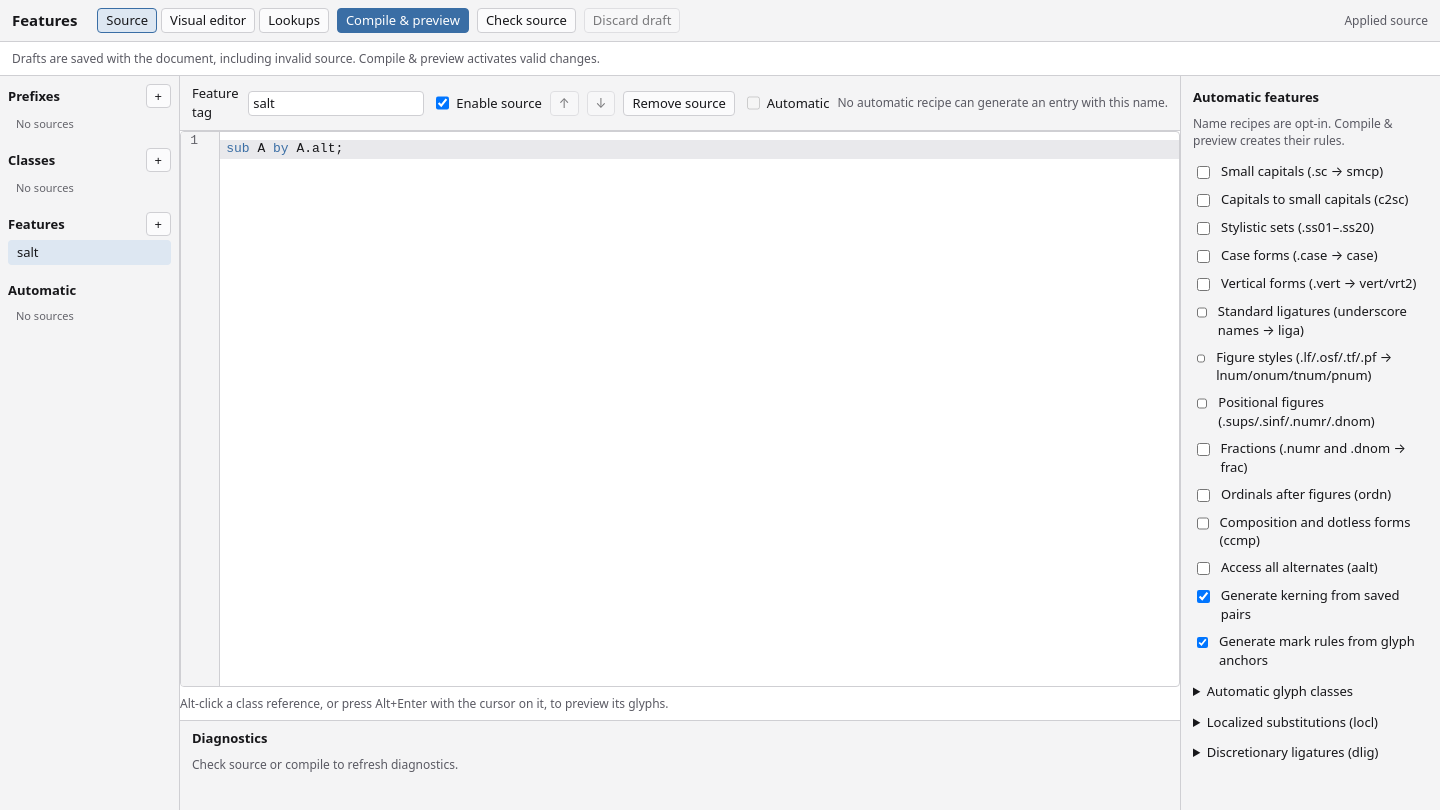
Test: Visual lookup editor › adds a manually editable lookup without changing generated blocks
The image size is (1440, 810).
Click the button "Visual editor": (208, 20) left=161, top=8, right=255, bottom=33
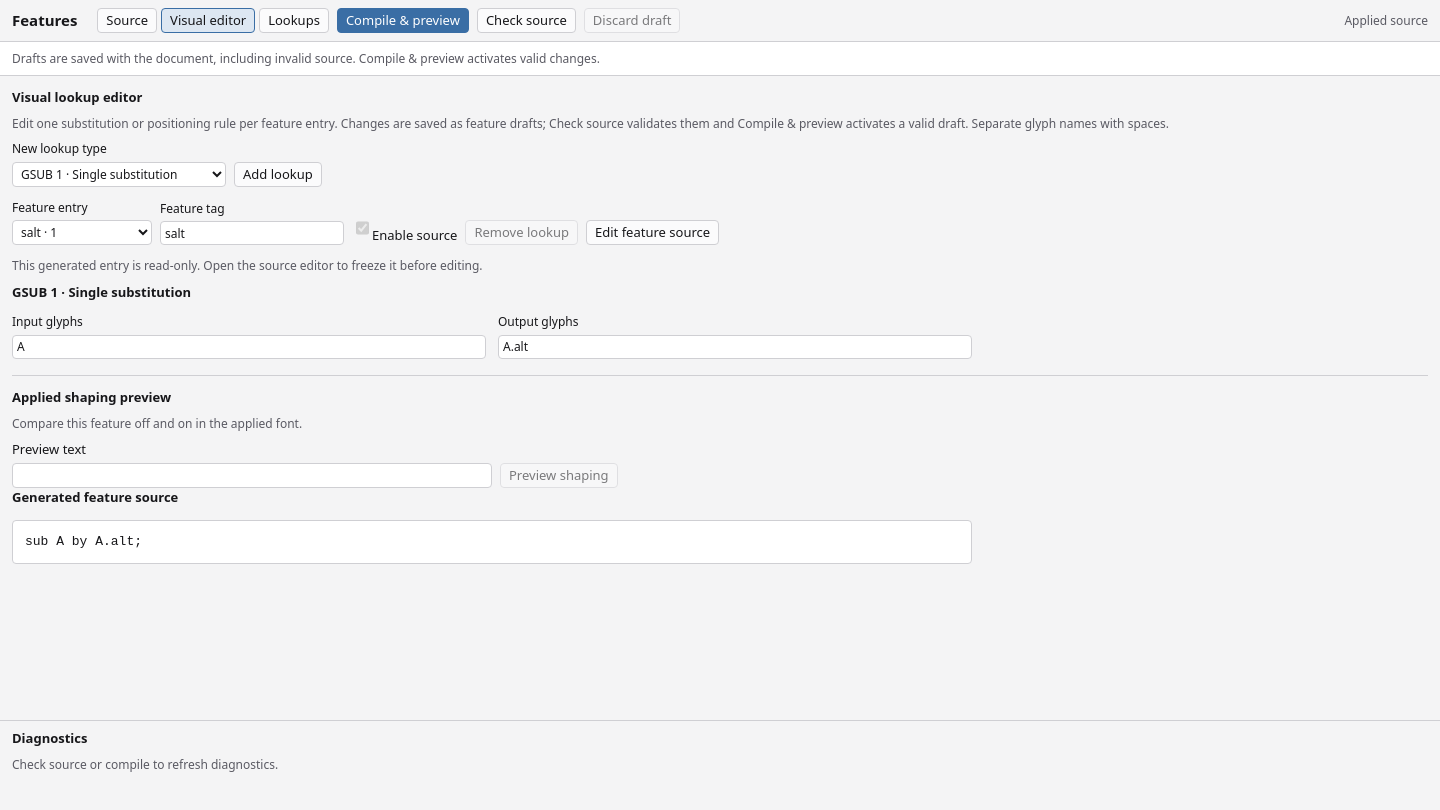
Check: the element "Visual lookup editor" is shown
Check: the field labelled "Input glyphs" is disabled, box left=12, top=335, right=486, bottom=359
Select "GSUB 4 · Ligature substitution" in the dropdown labelled "New lookup type": (119, 174) left=12, top=162, right=226, bottom=187
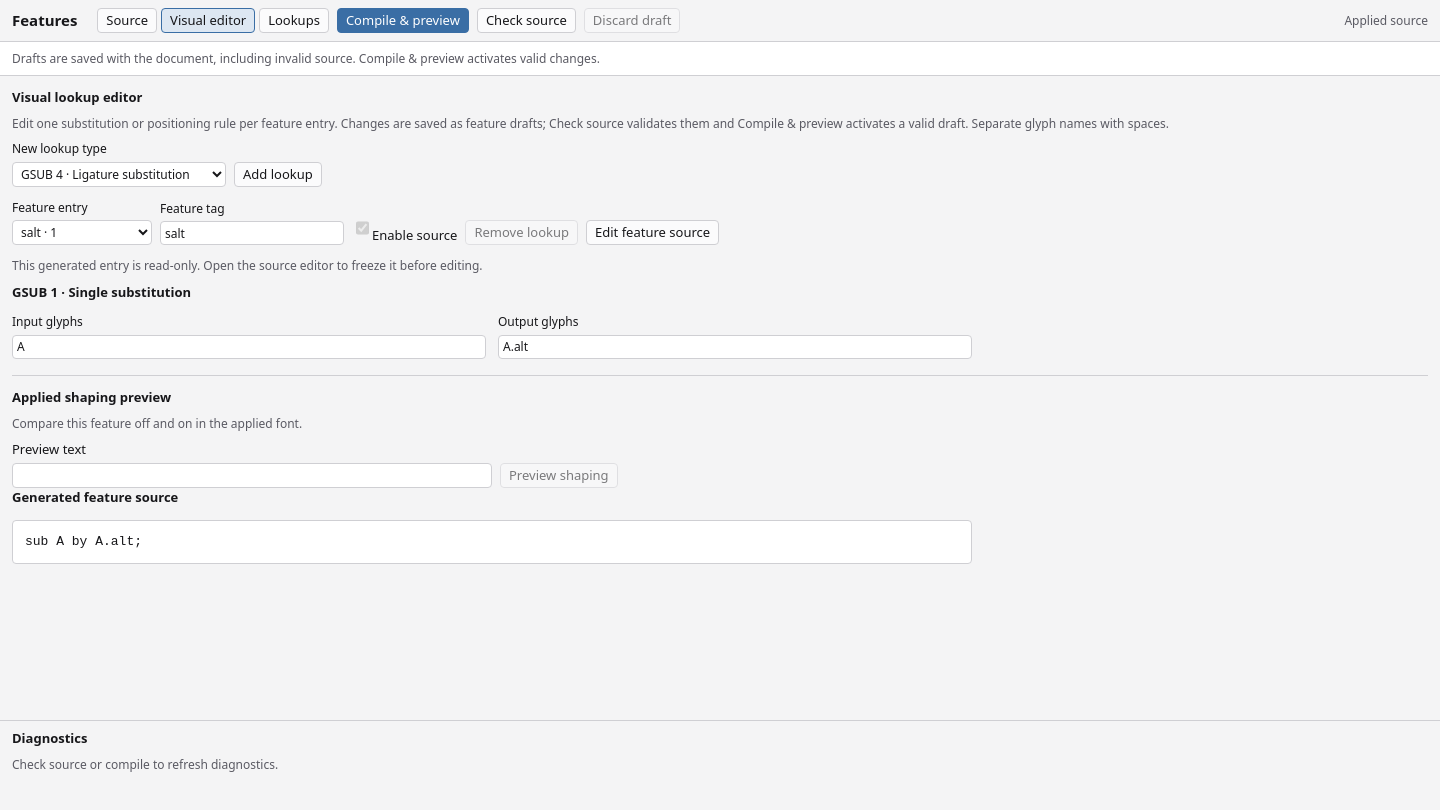
Click the button "Add lookup": (278, 174) left=234, top=162, right=322, bottom=187
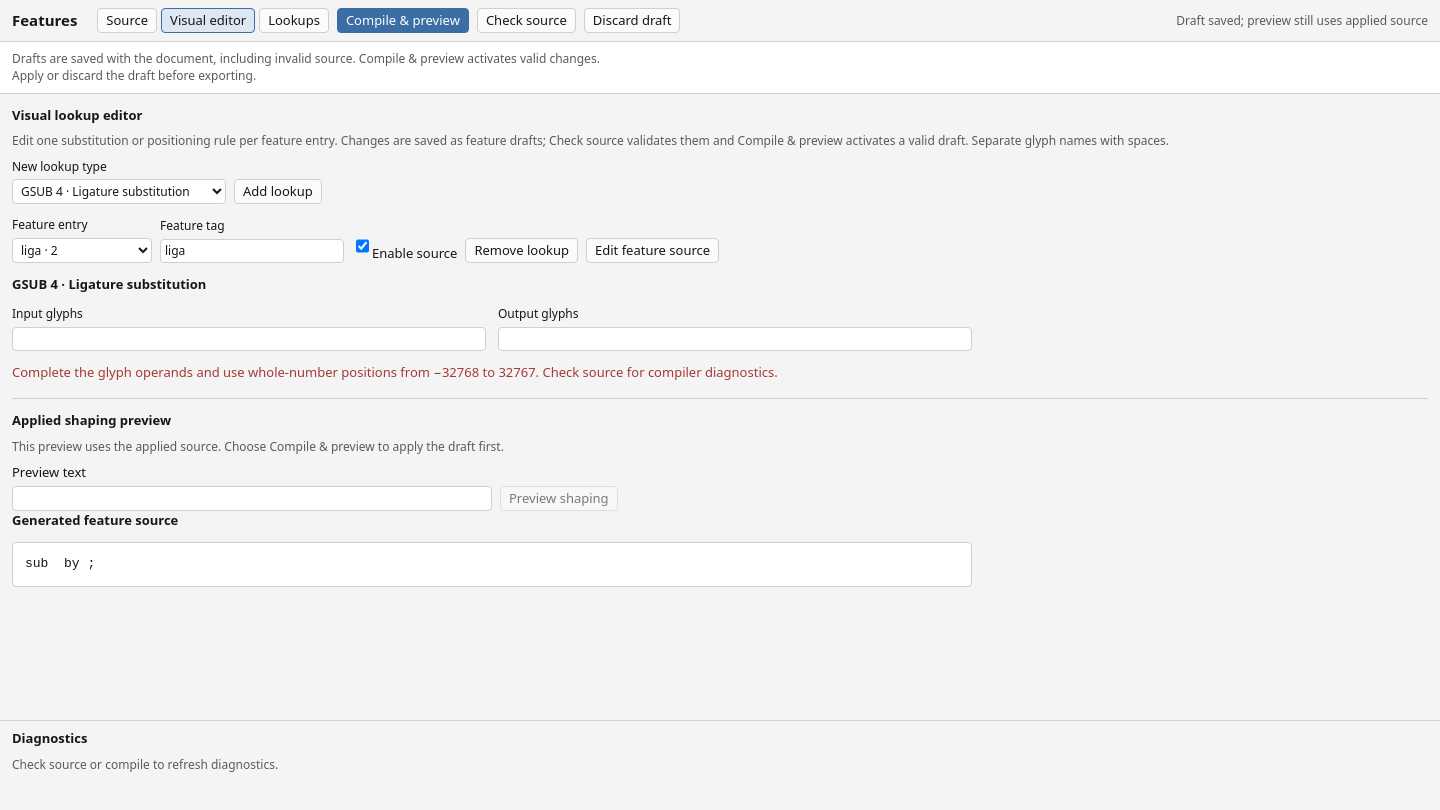
Check: the field labelled "Input glyphs" is enabled, box left=12, top=327, right=486, bottom=351
